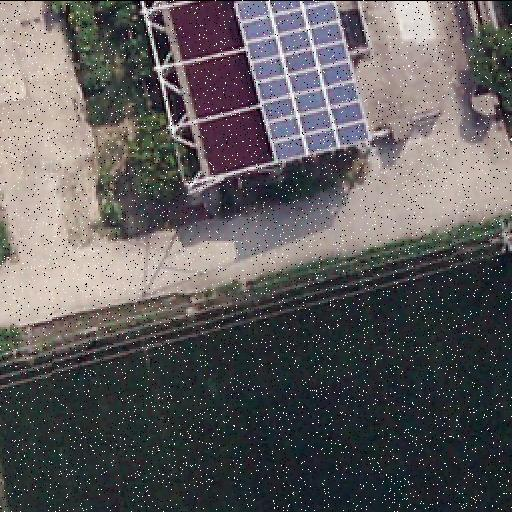solar-panel: (231, 0, 371, 184)
